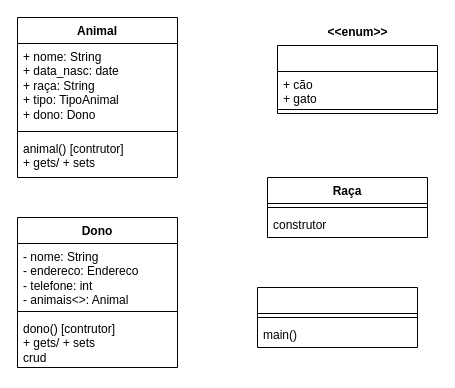
Some shapes in this 455 by 388 pixel diagram are drawn without their labels. The shapes that lost their labels are listed below. From the top down, each one's box as (x1, y1, x2, y2) in pixels, then its label:
(276, 44, 438, 114): TipoAnimal
(256, 286, 418, 348): Veterinaria
